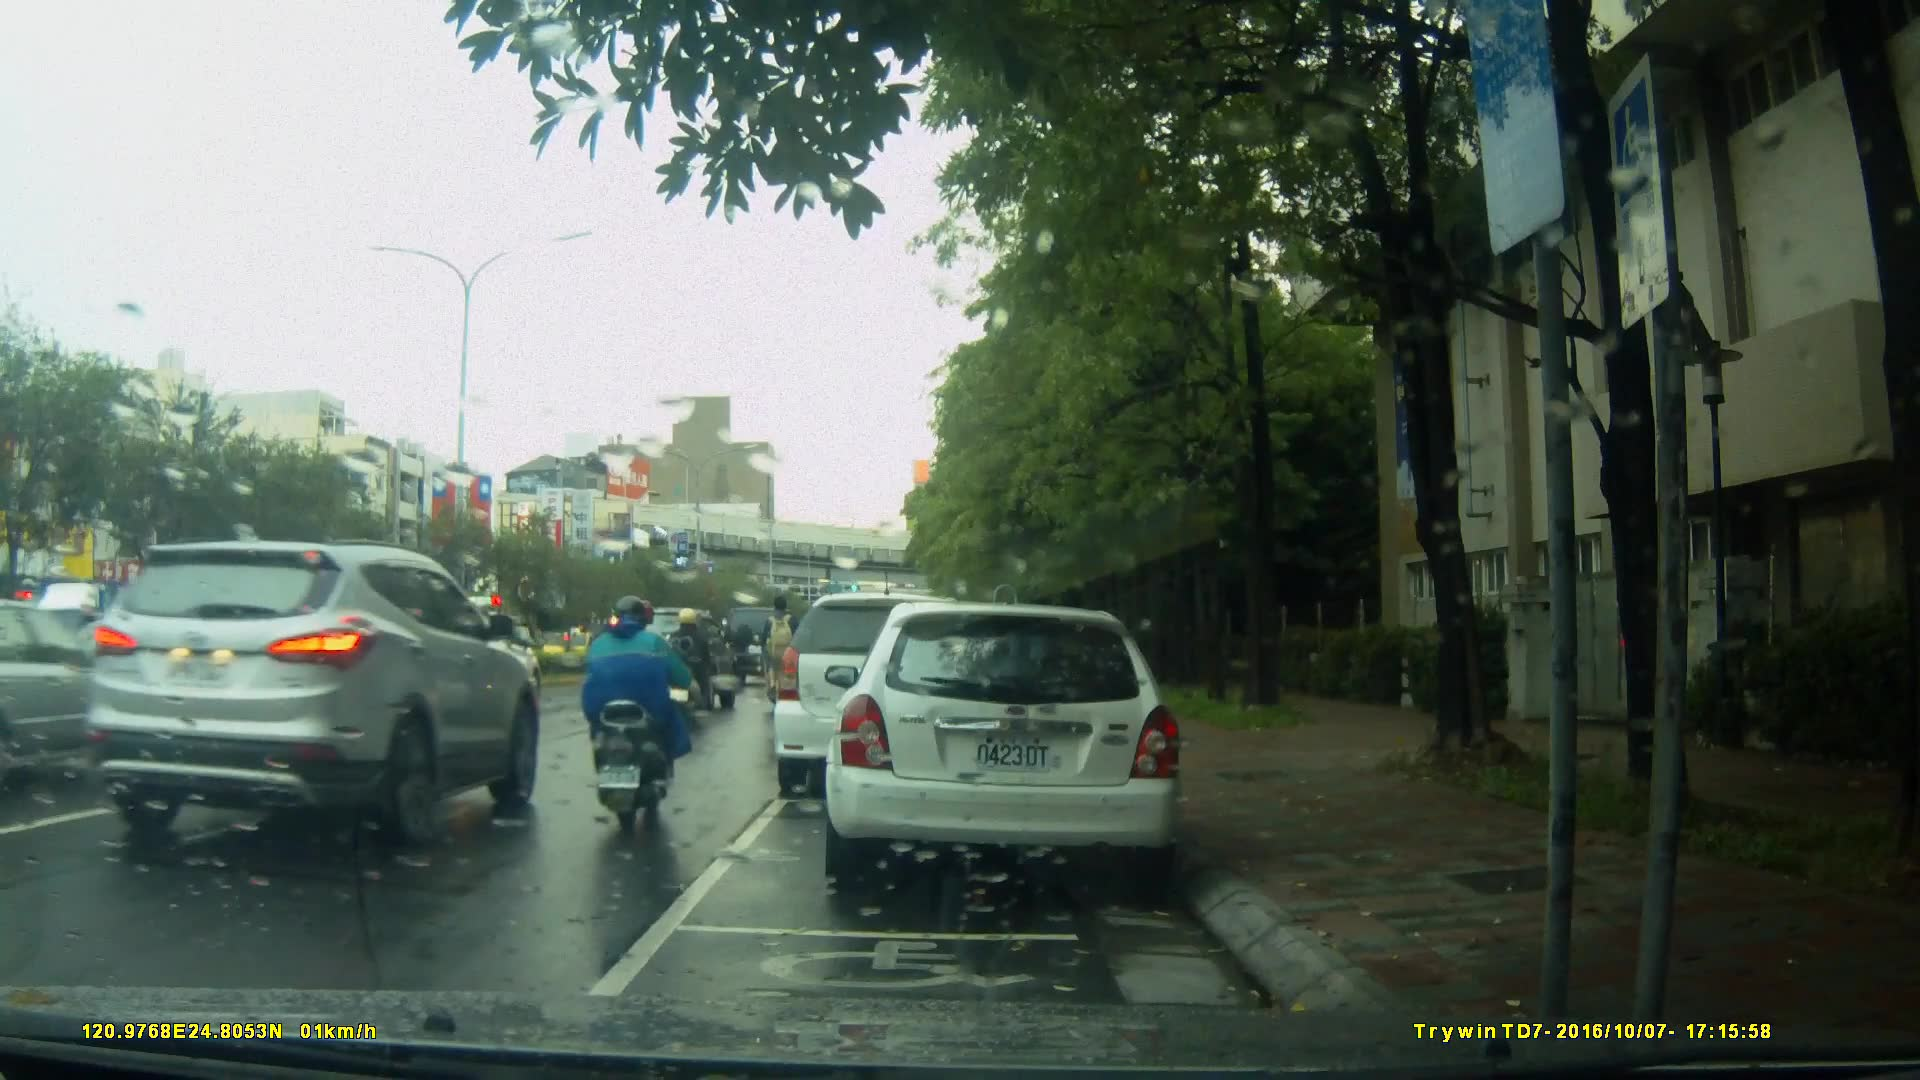rider: (582, 594, 691, 828), (661, 610, 726, 733), (760, 594, 803, 731)
vehicle: (77, 536, 541, 854), (822, 604, 1188, 883), (774, 595, 995, 802), (1, 587, 134, 730), (608, 595, 743, 704)
